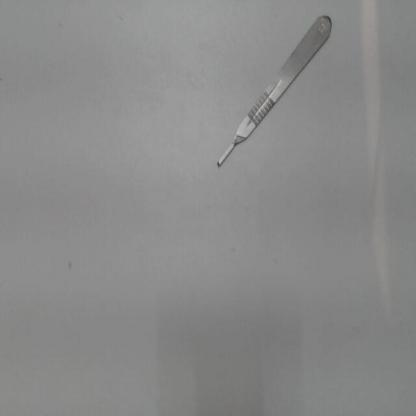No.3 BP Handle: (206, 3, 342, 184)
